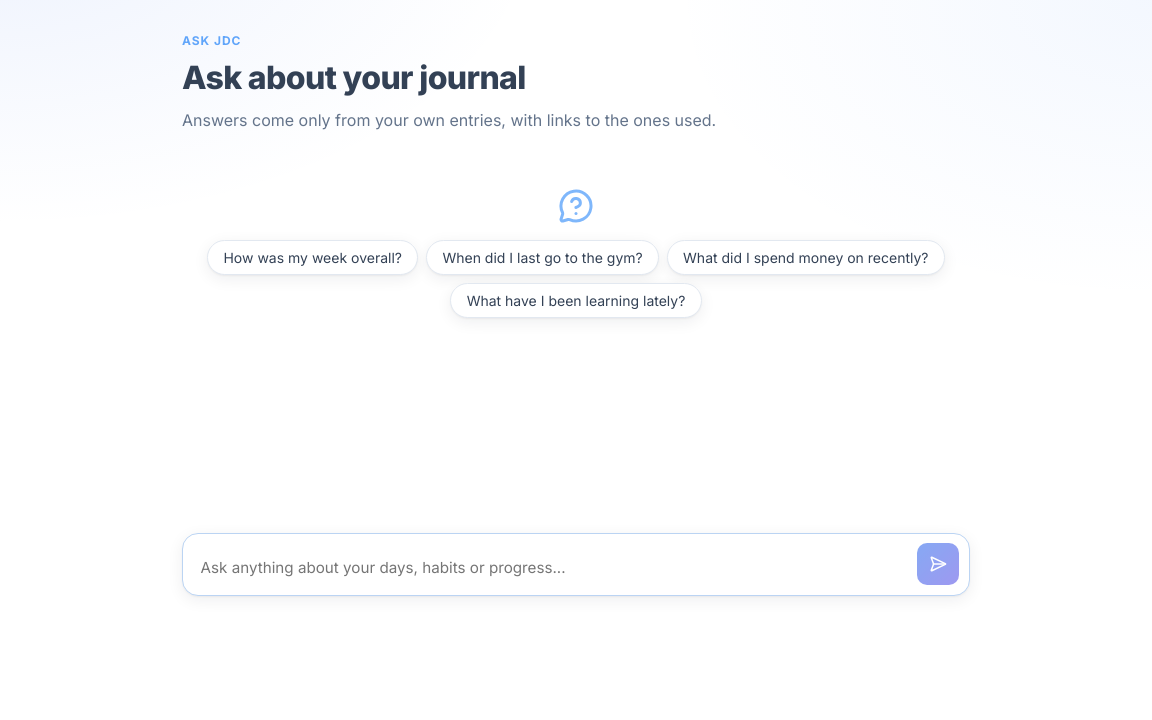
it: Ask JDC › sends the conversation so far for follow-up questions
Click the button "When did I last go to the gym?". click: click(543, 257)
box: top-left (426, 240), bottom-right (659, 275)
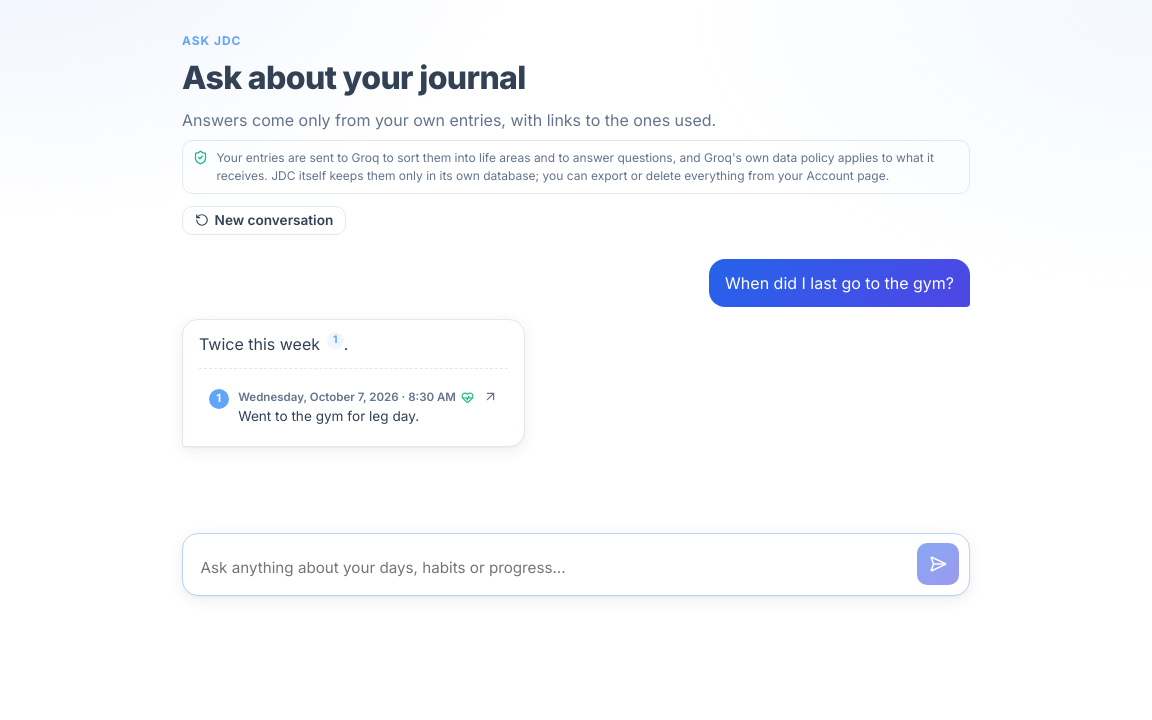
expect the text "Twice this week 1 ." is shown: met, box top-left (199, 332), bottom-right (348, 354)
Type "What did I train?" into the text box named "Your question". click: (551, 568)
box: top-left (193, 550), bottom-right (909, 585)
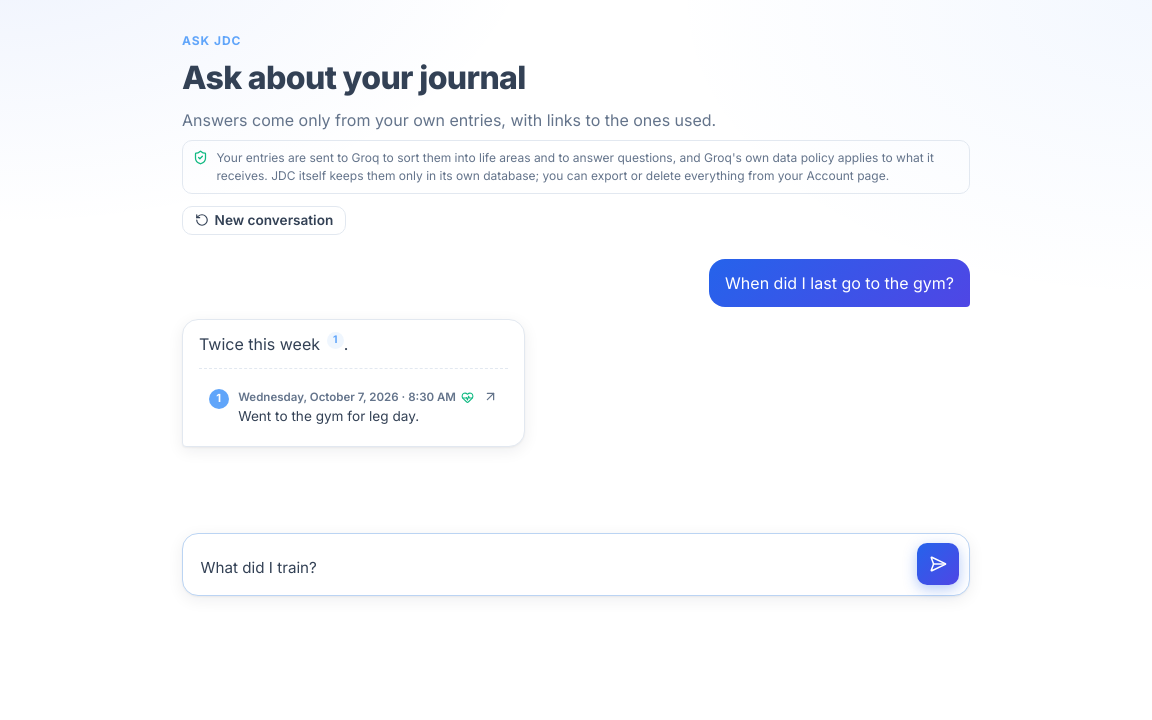
Press Enter in the text box named "Your question", box top-left (193, 550), bottom-right (909, 585)
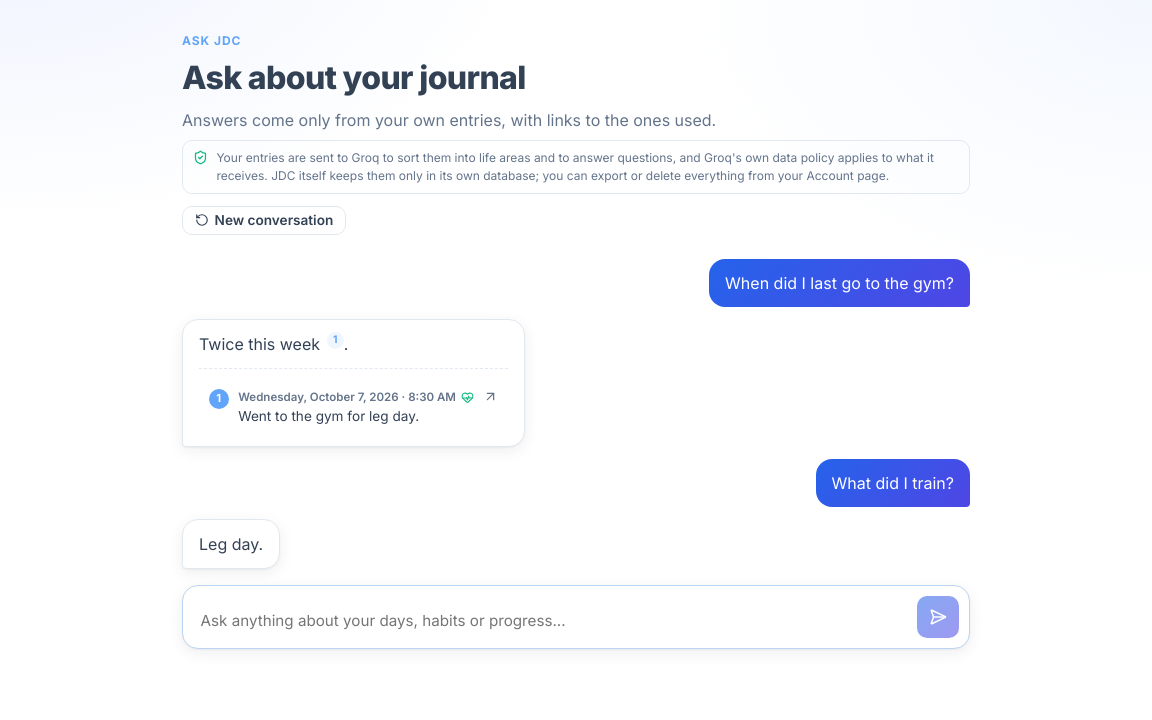
expect the text "Leg day." is shown: met, box top-left (199, 532), bottom-right (263, 556)
